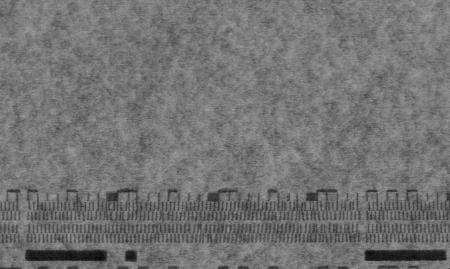Oblique printing: (297, 223, 342, 246), (102, 198, 140, 223), (290, 198, 310, 222), (191, 222, 208, 245), (154, 210, 166, 222)
